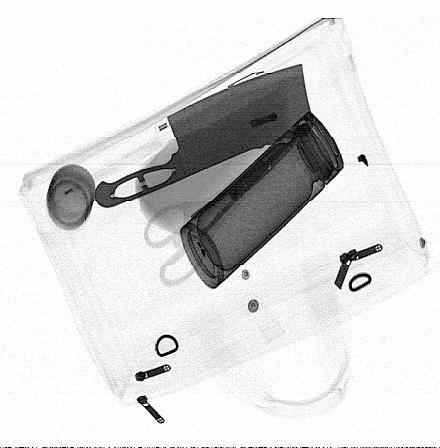Knife: (94, 64, 315, 209)
Scissors: (144, 134, 298, 288)
